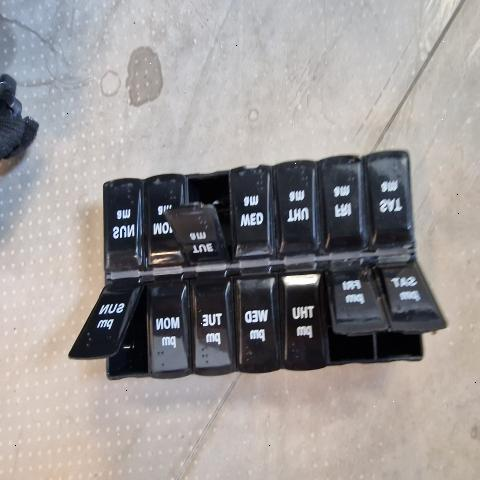Open: (323, 272, 388, 363), (184, 174, 232, 261), (108, 290, 148, 379), (379, 326, 448, 362)
